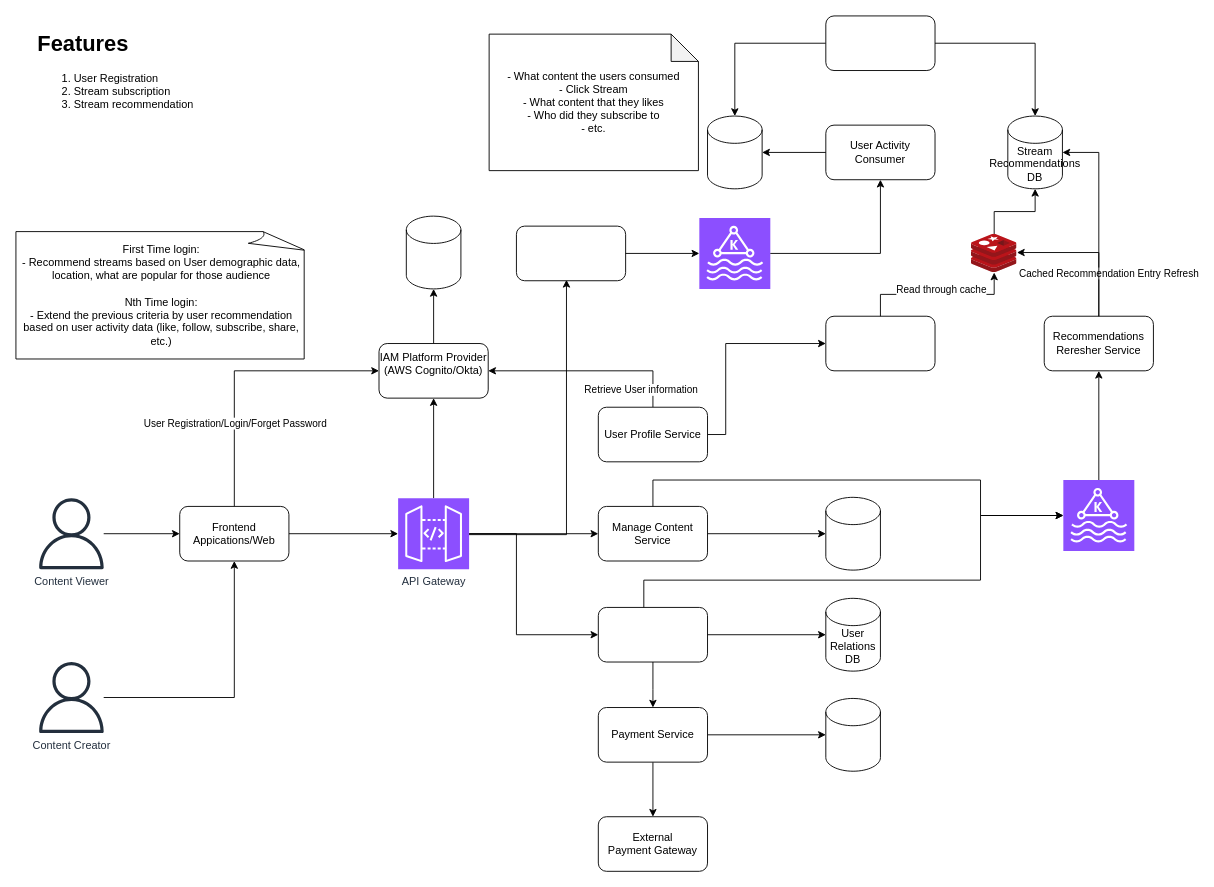
Image size: 1214x887. Some labels were removed from this diagram. Here are the shapes that lost their labels. From the top down, the box of each, then its label:
(825, 15, 935, 71): Machine Learning Models/Pipelines
(707, 115, 762, 189): User Activity DB
(405, 215, 461, 289): Credentials DB
(516, 225, 626, 281): User Activity Ingestor
(825, 315, 935, 371): Stream Recommender Service
(825, 496, 880, 570): User Content Metadata DB
(597, 607, 708, 662): User Relation Service
(825, 698, 880, 771): Payment Schedule
